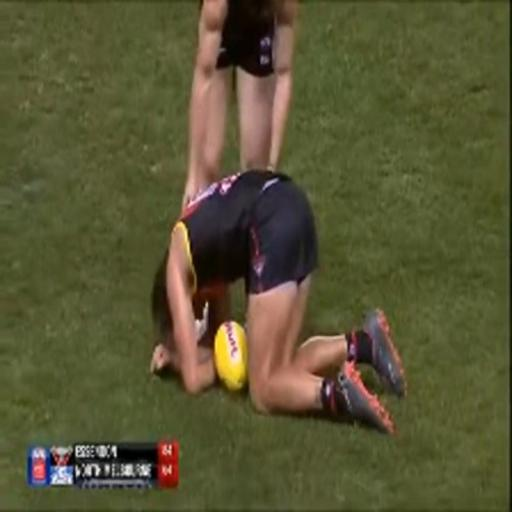nao-violencia: (141, 0, 433, 447)
